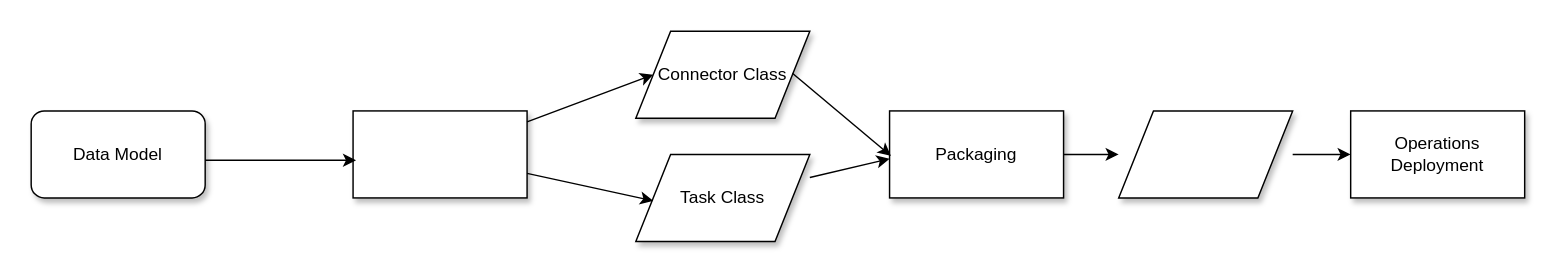
Some shapes in this 1559 by 277 pixel diagram are drawn without their labels. Here are the shapes that lost their labels. From the top down, the centre of each, then its label:
At [441,156]: "Development".
At [1206,156]: "Connector Plugin".
